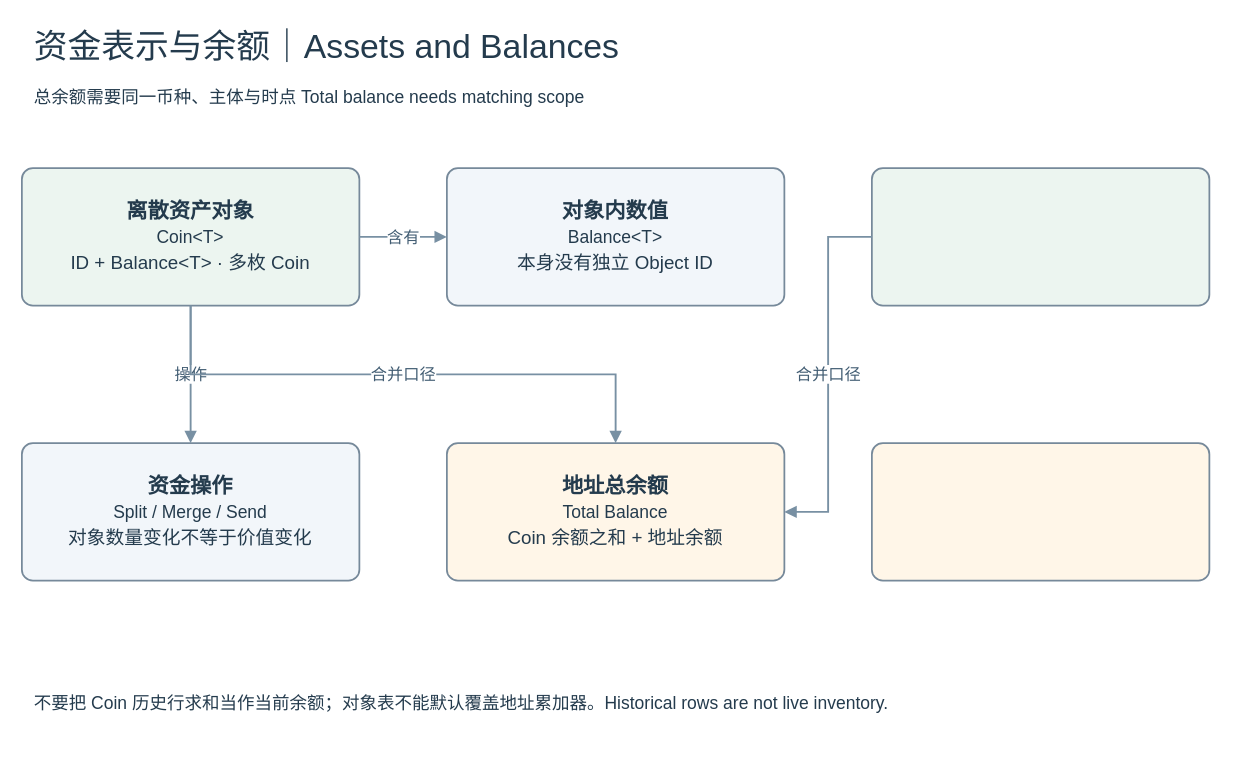
The diagram is 1233 pixels wide and 758 high, and some of its shapes have lost their labels. Here are the shapes that lost their labels. From the top down, the centre of each, then its label:
the point at 1040,236: 地址余额 Address Balance 每地址 / 币种的累加器值
the point at 1040,511: 费用 Gas Coin 或地址余额；承担者可不同
